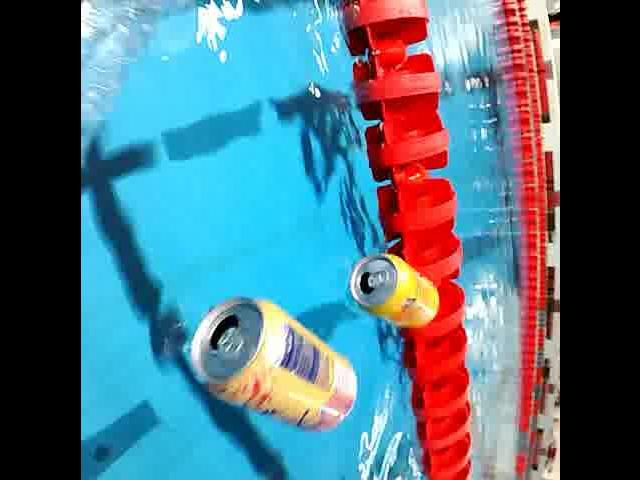Bottle: (80, 0, 248, 174)
Can: (188, 291, 366, 439), (342, 249, 440, 335)
